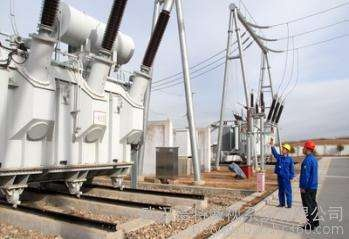red: (301, 139, 315, 156)
yellow: (279, 142, 292, 155)
